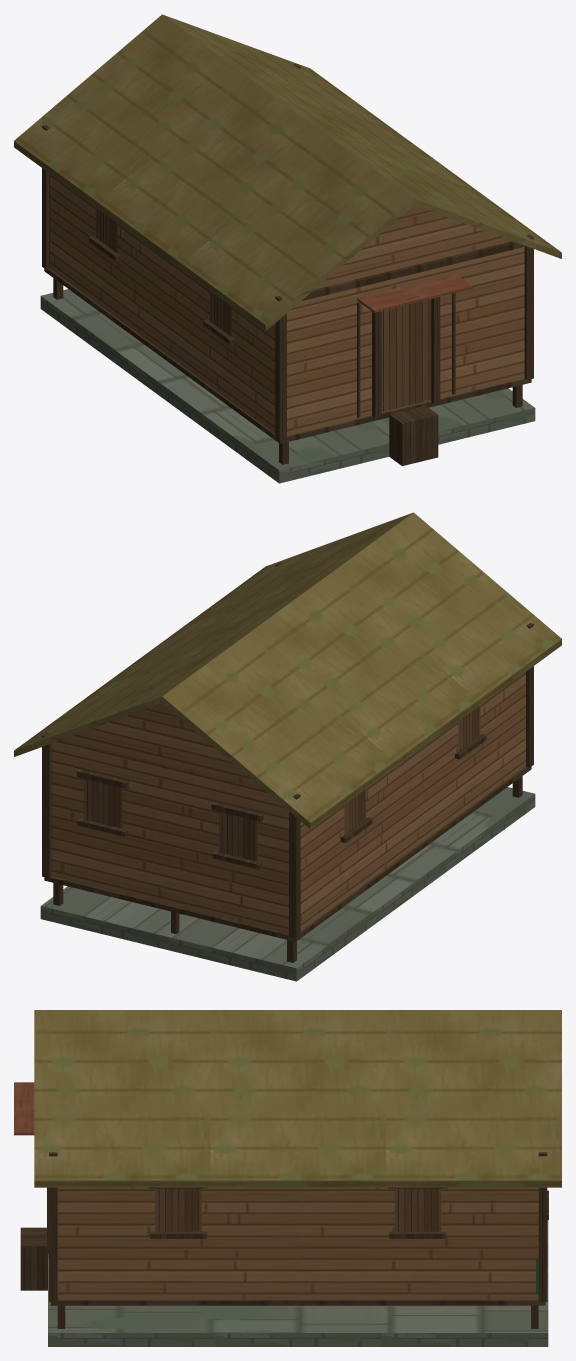
File: ae_jungle_wood_large_hall_lod0.glb
3 views of the same model, one above another, from view 1: azimuth 30°, elevation 25°; view 2: azimuth 150°, elevation 25°; view 3: azimuth 270°, elevation 25° (orthographic). The views are drawn at different scales.
Visible parts, largest first — view 1: ae_jungle_wood_large_hall_lod0; view 2: ae_jungle_wood_large_hall_lod0; view 3: ae_jungle_wood_large_hall_lod0.
Boxes of the visible parts, box(x1,y1,x2,y2) form: ae_jungle_wood_large_hall_lod0: box(14, 14, 561, 483); ae_jungle_wood_large_hall_lod0: box(14, 512, 561, 981); ae_jungle_wood_large_hall_lod0: box(14, 1010, 561, 1346).
Size of the model in its own units: 6.6 by 5.5 by 10.07.
1 material, 1 textured.
